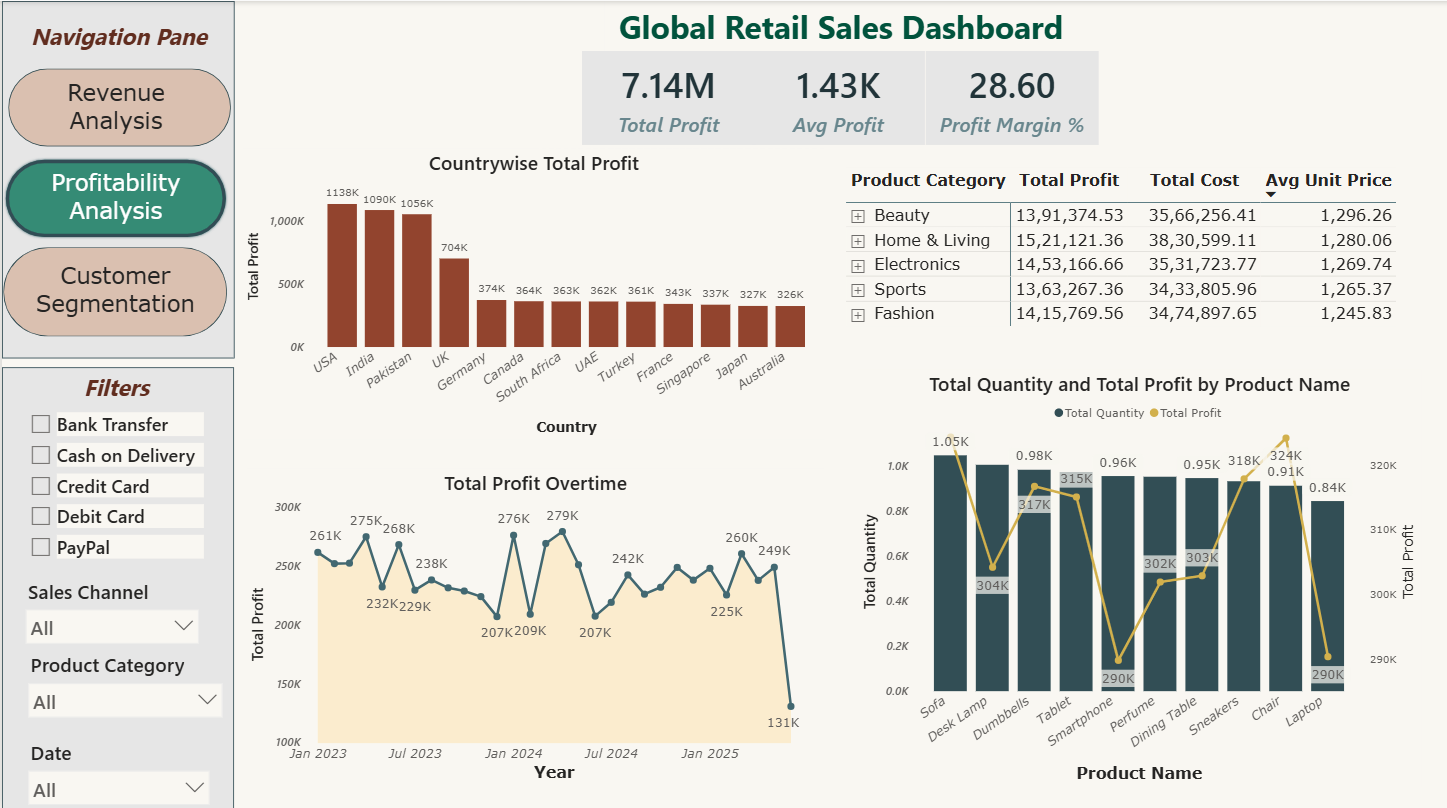

This screenshot's page, from the dashboard's own definition file:
{"tool":"powerbi","page":{"name":"Profitablity Analysis","canvas":[1700,950],"ordinal":1},"visuals":[{"type":"shape","box":[0,0,273.3,420],"z":0},{"type":"card","fields":{"Values":["Sum(global_retail_sales_dataset.Profit)"]},"box":[681,59,204.1,110],"z":1000,"group":"g3"},{"type":"group","id":"g1","title":"Group 2","box":[1.6,289,263,104.9],"z":1000},{"type":"shape","box":[6.7,80,261.7,91.7],"z":2000},{"type":"card","fields":{"Values":["Avg(global_retail_sales_dataset.Profit)"]},"box":[881.3,59,203.5,110.1],"z":3000,"group":"g3"},{"type":"shape","box":[0,430.5,272.7,519.5],"z":3000},{"type":"card","fields":{"Values":["global_retail_sales_dataset.Profit Margin %"]},"box":[1084.2,59,203.3,110.1],"z":4000,"group":"g3"},{"type":"shape","box":[2,183,264.6,96.8],"z":4000},{"type":"textbox","box":[63.3,85,141.7,83.3],"z":5000},{"type":"shape","box":[1.6,289,263,104.9],"z":5000,"group":"g2"},{"type":"textbox","box":[18.1,191.1,232.3,82.3],"z":6000},{"type":"textbox","box":[16.1,300.3,234,85.5],"z":6000,"group":"g2"},{"type":"group","id":"g2","title":"Group 4","box":[1.6,289,263,104.9],"z":6004,"group":"g1"},{"type":"textbox","box":[61.3,430.8,145.2,59.7],"z":7000},{"type":"slicer","fields":{"Values":["global_retail_sales_dataset.Payment_Method"]},"box":[21.7,475,220,195],"z":8000},{"type":"slicer","fields":{"Values":["global_retail_sales_dataset.Sales_Channel"]},"box":[18.3,673.3,223.3,86.7],"z":9000},{"type":"slicer","fields":{"Values":["global_retail_sales_dataset.Product_Category"]},"box":[20,760,248.3,101.7],"z":10000},{"type":"slicer","fields":{"Values":["global_retail_sales_dataset.Order_Date.Variation.Date Hierarchy.Year","global_retail_sales_dataset.Order_Date.Variation.Date Hierarchy.Quarter","global_retail_sales_dataset.Order_Date.Variation.Date Hierarchy.Month","global_retail_sales_dataset.Order_Date.Variation.Date Hierarchy.Day"]},"box":[20,861.7,233.3,88.3],"z":11000},{"type":"textbox","box":[20,18.3,233.3,61.7],"z":12000},{"type":"textbox","box":[708,0,556,62],"z":13000},{"type":"group","id":"g3","title":"Group 1","box":[681,59,607.6,110],"z":14000},{"type":"columnChart","title":"Countrywise Total Profit","fields":{"Category":["global_retail_sales_dataset.Country"],"Y":["Sum(global_retail_sales_dataset.Profit)"]},"box":[283.3,173.3,683.3,341.7],"z":15000},{"type":"pivotTable","fields":{"Values":["Sum(global_retail_sales_dataset.Profit)","Sum(global_retail_sales_dataset.Cost)","Avg(global_retail_sales_dataset.Unit_Price)"],"Rows":["global_retail_sales_dataset.Product_Category","global_retail_sales_dataset.Product_Name"]},"box":[987.1,191.4,681,228],"z":16000},{"type":"areaChart","title":"Total Profit Overtime","fields":{"Category":["global_retail_sales_dataset.Order_Date.Variation.Date Hierarchy.Year","global_retail_sales_dataset.Order_Date.Variation.Date Hierarchy.Quarter","global_retail_sales_dataset.Order_Date.Variation.Date Hierarchy.Month"],"Y":["Sum(global_retail_sales_dataset.Profit)"]},"box":[288.3,550,678.3,373.3],"z":17000},{"type":"lineStackedColumnComboChart","fields":{"Category":["global_retail_sales_dataset.Product_Name"],"Y":["Sum(global_retail_sales_dataset.Quantity)"],"Y2":["Sum(global_retail_sales_dataset.Profit)"]},"box":[1006.7,433.3,661.7,490],"z":18000}]}

Visuals, with their boxes in screenshot pixels (x1, y1, x2, y2), scaled from the page's 1700x950 canvas onto the 1447x808 screenshot:
shape: x1=0 y1=0 x2=233 y2=357
card - Sum(global_retail_sales_dataset.Profit): x1=580 y1=50 x2=753 y2=144
"Group 2" group: x1=1 y1=246 x2=225 y2=335
shape: x1=6 y1=68 x2=228 y2=146
card - Avg(global_retail_sales_dataset.Profit): x1=750 y1=50 x2=923 y2=144
shape: x1=0 y1=366 x2=232 y2=807
card - global_retail_sales_dataset.Profit Margin %: x1=923 y1=50 x2=1096 y2=144
shape: x1=2 y1=156 x2=227 y2=238
textbox: x1=54 y1=72 x2=174 y2=143
shape: x1=1 y1=246 x2=225 y2=335
textbox: x1=15 y1=163 x2=213 y2=233
textbox: x1=14 y1=255 x2=213 y2=328
"Group 4" group: x1=1 y1=246 x2=225 y2=335
textbox: x1=52 y1=366 x2=176 y2=417
slicer - global_retail_sales_dataset.Payment_Method: x1=18 y1=404 x2=206 y2=570
slicer - global_retail_sales_dataset.Sales_Channel: x1=16 y1=573 x2=206 y2=646
slicer - global_retail_sales_dataset.Product_Category: x1=17 y1=646 x2=228 y2=733
slicer - global_retail_sales_dataset.Order_Date.Variation.Date Hierarchy.Year x global_retail_sales_dataset.Order_Date.Variation.Date Hierarchy.Quarter: x1=17 y1=733 x2=216 y2=807
textbox: x1=17 y1=16 x2=216 y2=68
textbox: x1=603 y1=0 x2=1076 y2=53
"Group 1" group: x1=580 y1=50 x2=1097 y2=144
"Countrywise Total Profit" columnChart: x1=241 y1=147 x2=823 y2=438
pivotTable - Sum(global_retail_sales_dataset.Profit) x Sum(global_retail_sales_dataset.Cost): x1=840 y1=163 x2=1420 y2=357
"Total Profit Overtime" areaChart: x1=245 y1=468 x2=823 y2=785
lineStackedColumnComboChart - global_retail_sales_dataset.Product_Name x Sum(global_retail_sales_dataset.Quantity): x1=857 y1=369 x2=1420 y2=785
